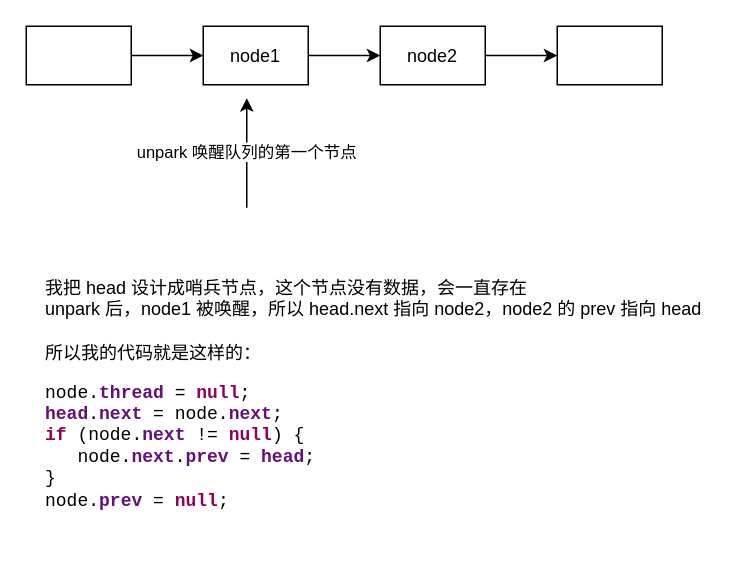
This 752x575 diagram has some shape labels left out. Each missing label, with the centre of its shape:
head: (x=78, y=55)
node3 tail: (x=609, y=55)
